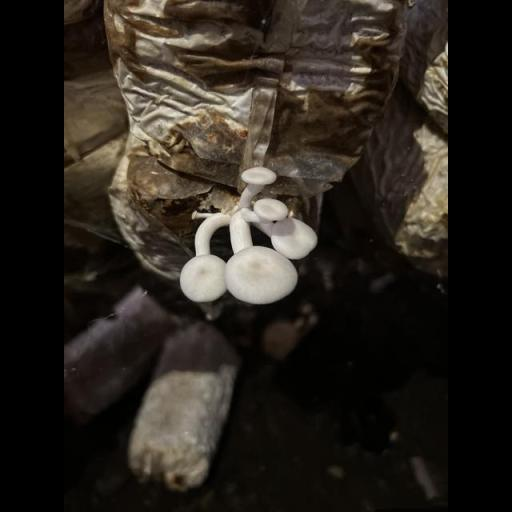White Oyster Mushroom: (181, 167, 317, 305)
